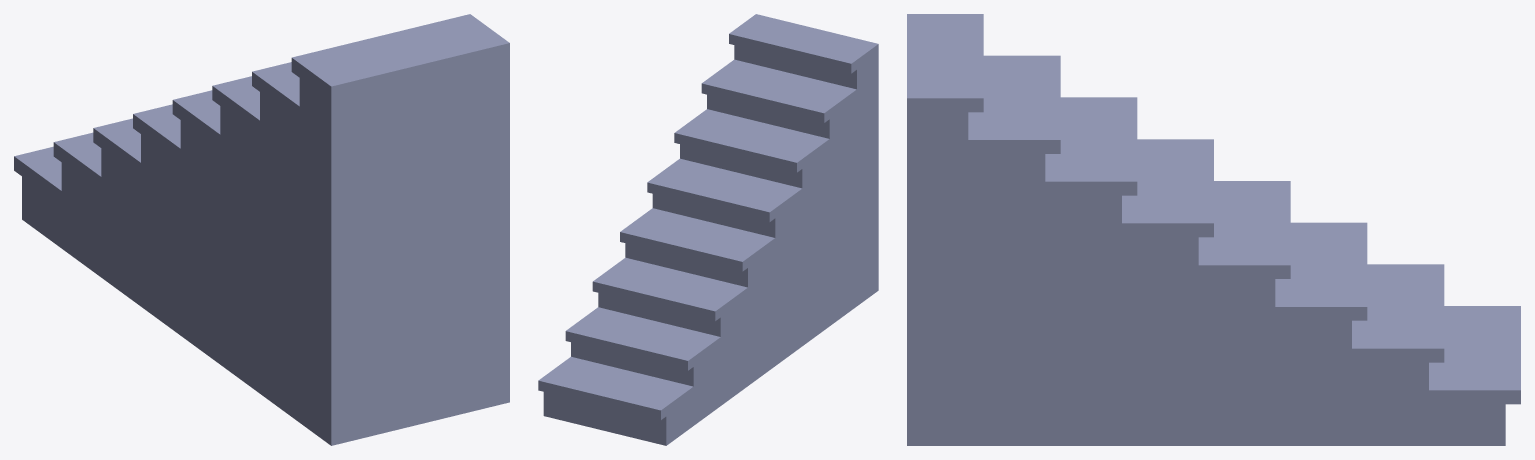
File: stairs-closed.obj
3 views of the same model, side by side, from view 1: azimuth 30°, elevation 25°; view 2: azimuth 150°, elevation 25°; view 3: azimuth 270°, elevation 25° (orthographic). The views are drawn at different scales.
Bounding box in the file's own units: 1.3 × 2.5 × 4.
